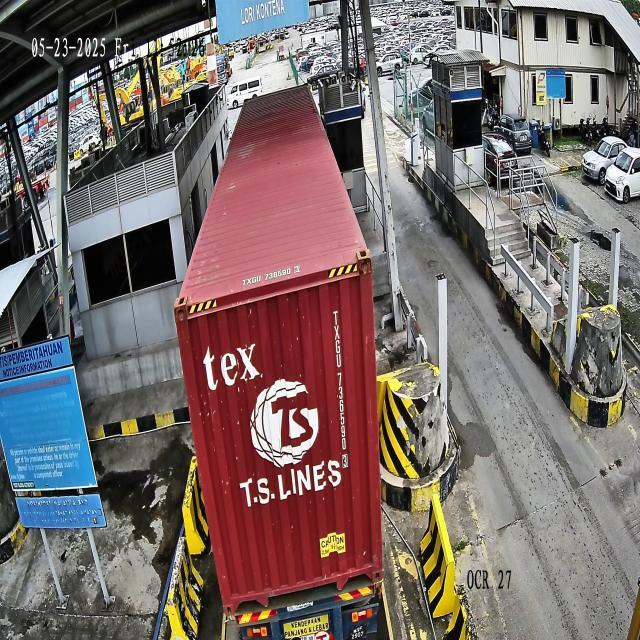container_number: (332, 307, 348, 468)
